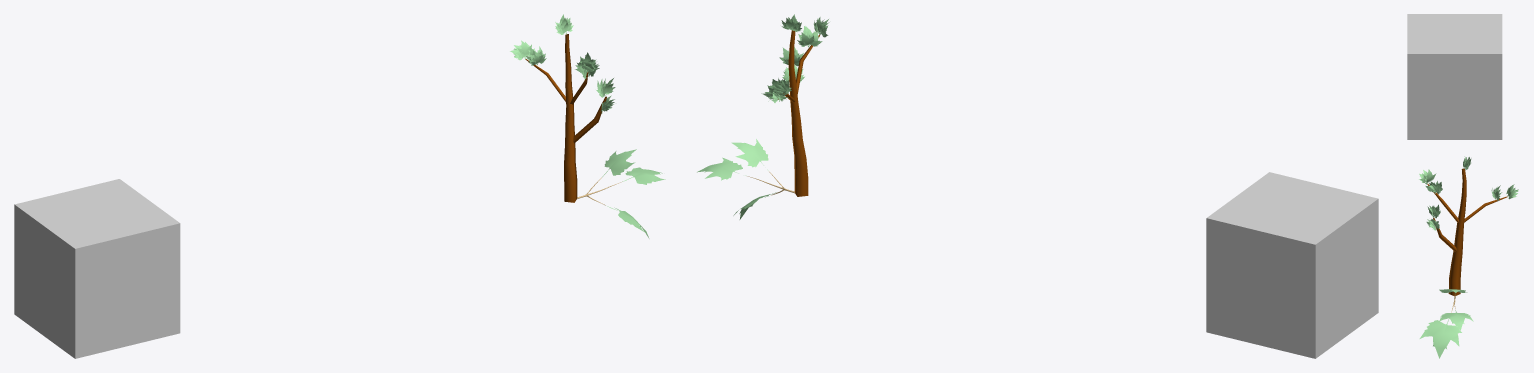
File: FinalTree12.fbx
3 renders of one model, left to right at view 1: azimuth 30°, elevation 25°; view 2: azimuth 150°, elevation 25°; view 3: azimuth 270°, elevation 25°, orthographic. The views are drawn at different scales.
Visible parts, largest first — view 1: Cube, Árbol; view 2: Cube, Árbol, palmate.003; view 3: Cube, Árbol, palmate.002, palmate.001.
Boxes of the visible parts, x1,y1,x2,y2 form: Cube: (14, 179, 180, 358); Árbol: (525, 34, 606, 202); Cube: (1206, 172, 1378, 358); Árbol: (778, 30, 819, 196); palmate.003: (731, 139, 768, 170); Cube: (1407, 14, 1502, 139); Árbol: (1427, 168, 1507, 295); palmate.002: (1419, 318, 1461, 358); palmate.001: (1439, 310, 1473, 330).
Size of the model in its own units: 1185 by 413 by 237.
